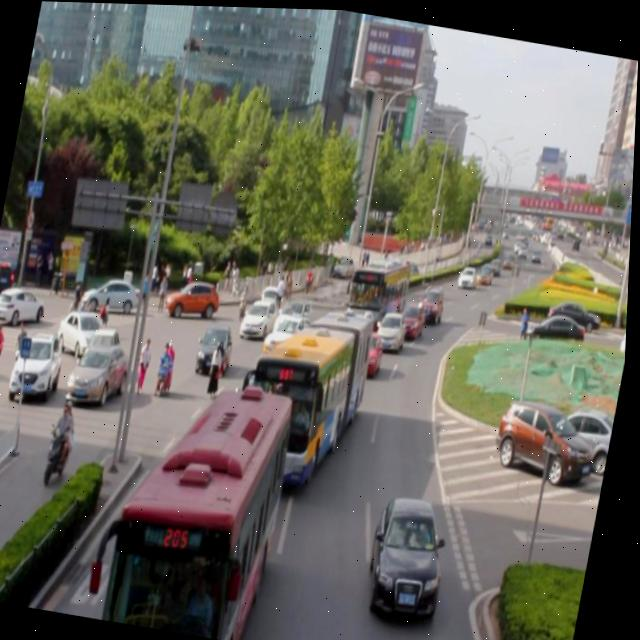car: (366, 490, 457, 616), (231, 357, 288, 428), (264, 306, 320, 363), (195, 317, 238, 372), (271, 289, 317, 340), (239, 288, 282, 338), (349, 324, 387, 375), (376, 305, 410, 349), (415, 280, 448, 323), (398, 298, 428, 339)
van: (107, 374, 296, 640), (240, 294, 376, 491), (346, 251, 415, 330)
